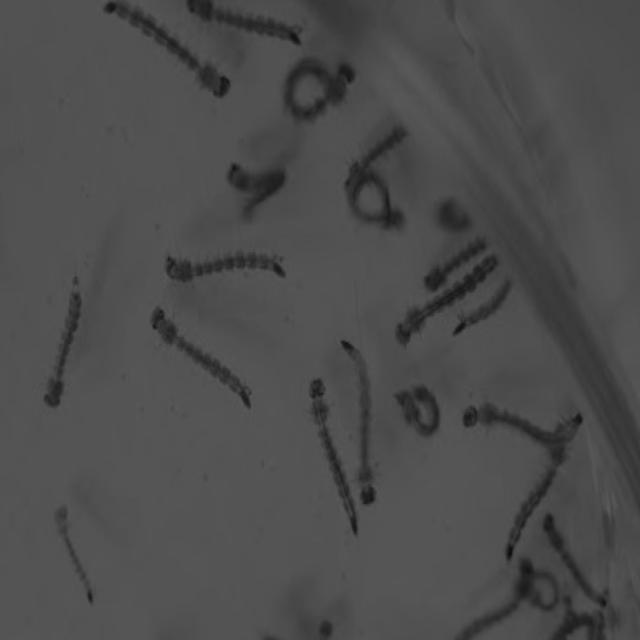larvas: (500, 407, 585, 567), (149, 297, 259, 419), (104, 1, 235, 102), (391, 246, 502, 350), (305, 372, 367, 539), (173, 0, 313, 55), (538, 514, 611, 617), (463, 397, 570, 452), (44, 269, 84, 409), (348, 336, 378, 505), (422, 230, 493, 299), (339, 127, 409, 195), (284, 56, 354, 122), (166, 254, 282, 288), (452, 278, 513, 341), (447, 592, 523, 636), (56, 506, 94, 593), (227, 158, 284, 208), (397, 379, 439, 442), (351, 177, 406, 225), (521, 564, 558, 610), (552, 615, 602, 640), (437, 199, 469, 228)
